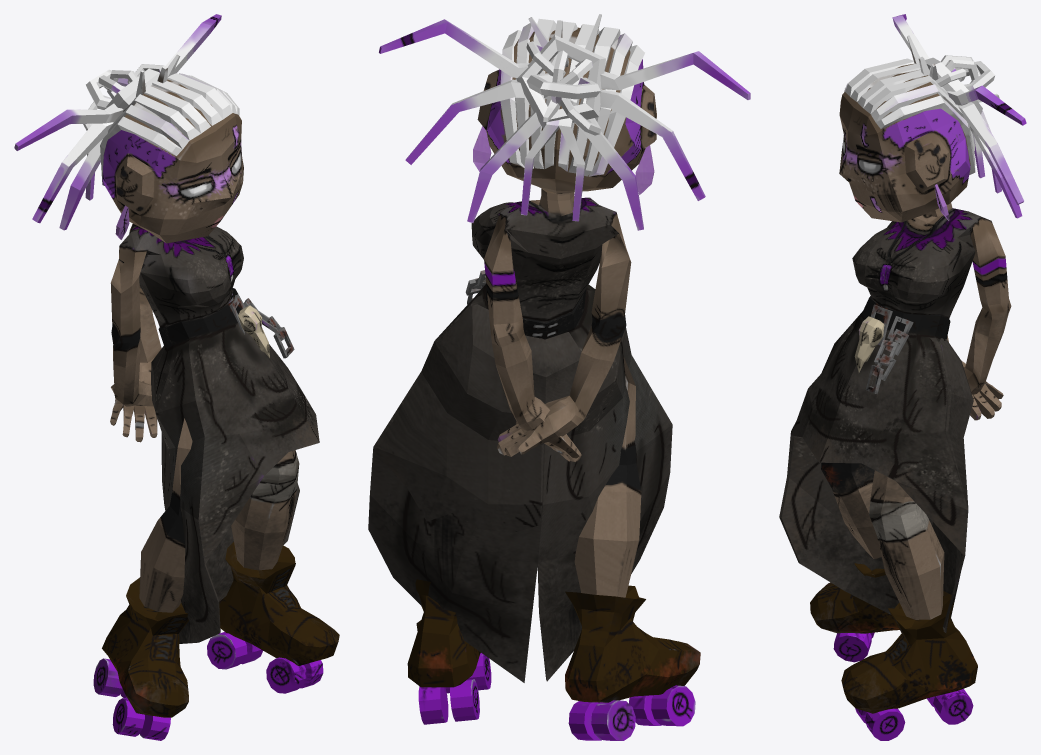
The model's file is bruja_000021.obj.
3 renders of one model, left to right at view 1: azimuth 30°, elevation 25°; view 2: azimuth 150°, elevation 25°; view 3: azimuth 270°, elevation 25°, orthographic. The views are drawn at different scales.
Parts seen in each view (by area): view 1: Bruja_Plane.001; view 2: Bruja_Plane.001; view 3: Bruja_Plane.001.
Part boxes in pixels (x1=…): Bruja_Plane.001: x1=14, y1=14, x2=339, y2=740; Bruja_Plane.001: x1=368, y1=14, x2=750, y2=740; Bruja_Plane.001: x1=779, y1=14, x2=1026, y2=740.
Bounding box in the file's own units: 8.07 × 16.02 × 5.68.
